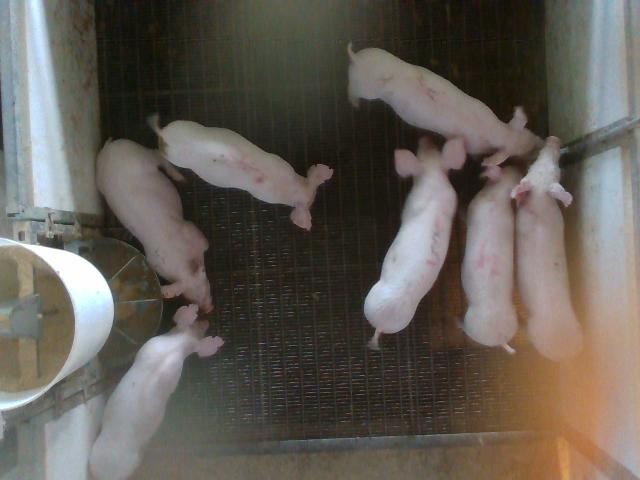pig-3: (364, 138, 465, 349)
pig-4: (459, 166, 521, 354)
pig-5: (150, 120, 331, 228)
